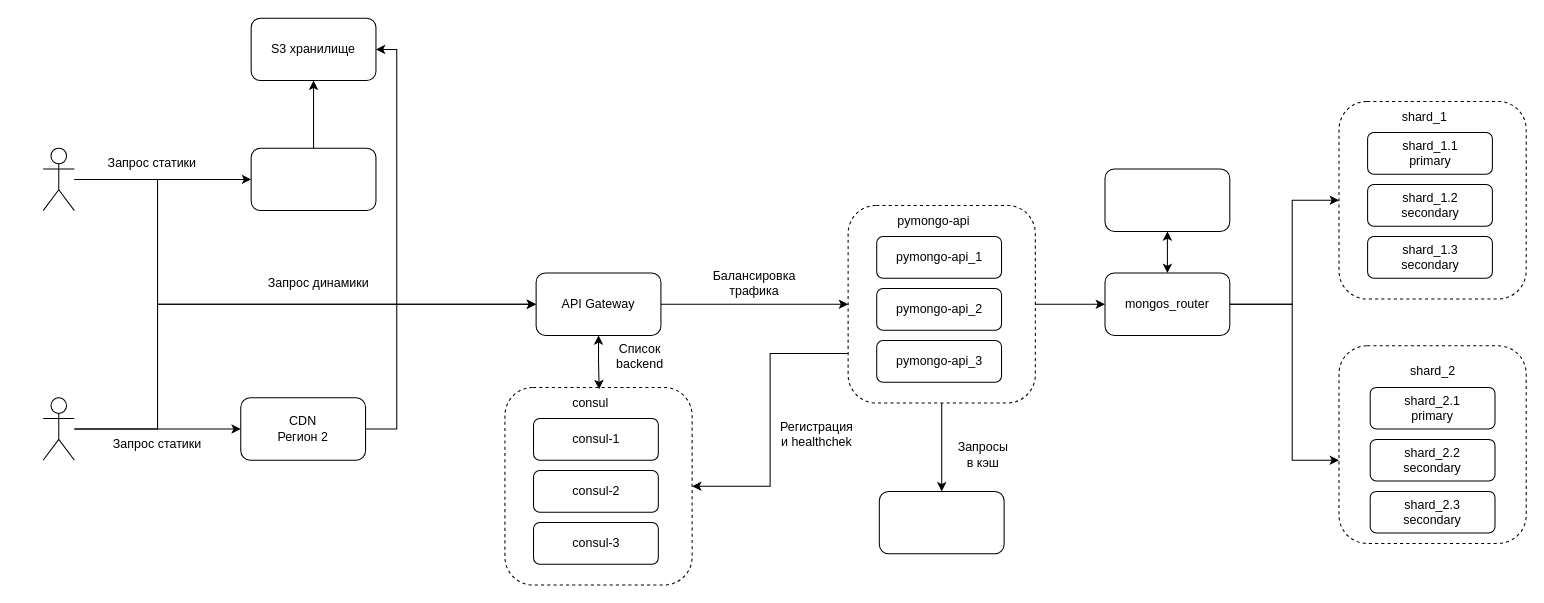
Image size: 1544x603. Some labels were removed from this diagram. Each missing label, with the centre of its shape:
CDN Регион 1: point 313,179
configSrv: point 1167,199
redis: point 941,522
Пользователь Регион 1: point 58,179
Пользователь Регион 2: point 58,428
